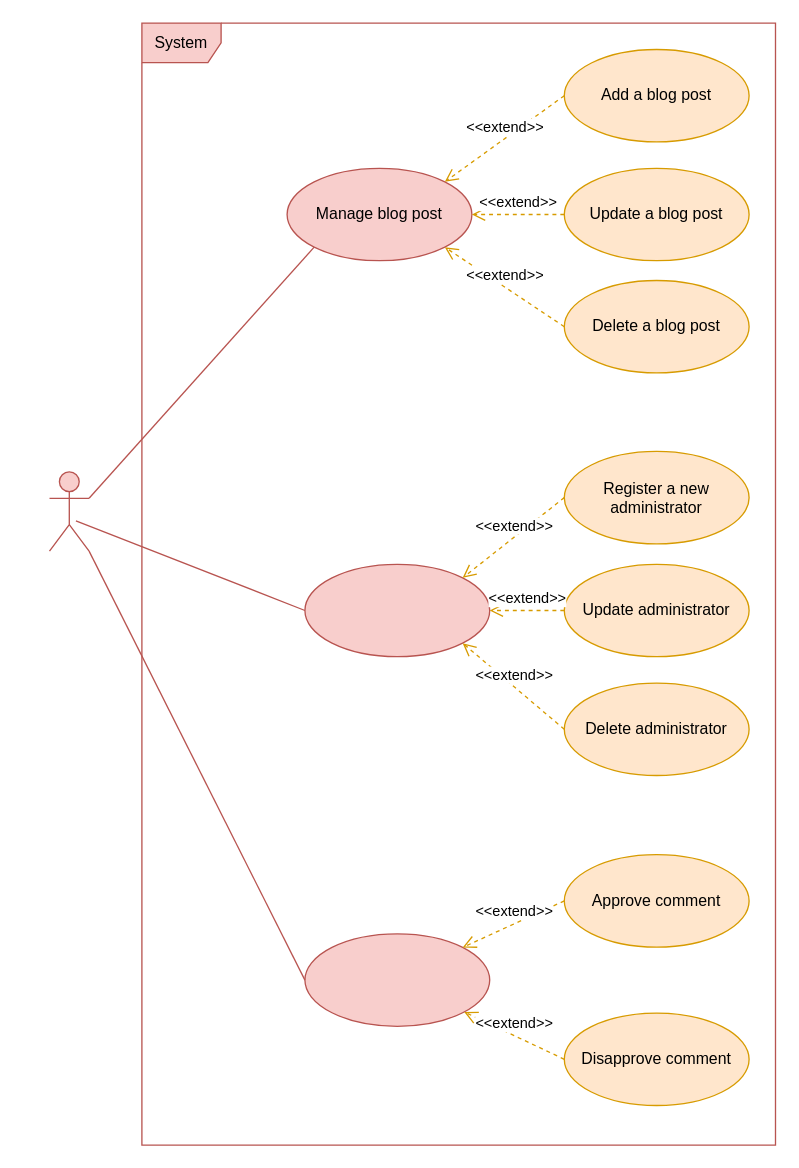
Some shapes in this 799 by 1168 pixel diagram are drawn without their labels. The centre of each missing label's shape, as x and y in pixels:
"Administrator" goes at pixel 68 511.
"Manage administrator account" goes at pixel 397 610.
"Manage comment" goes at pixel 397 979.
